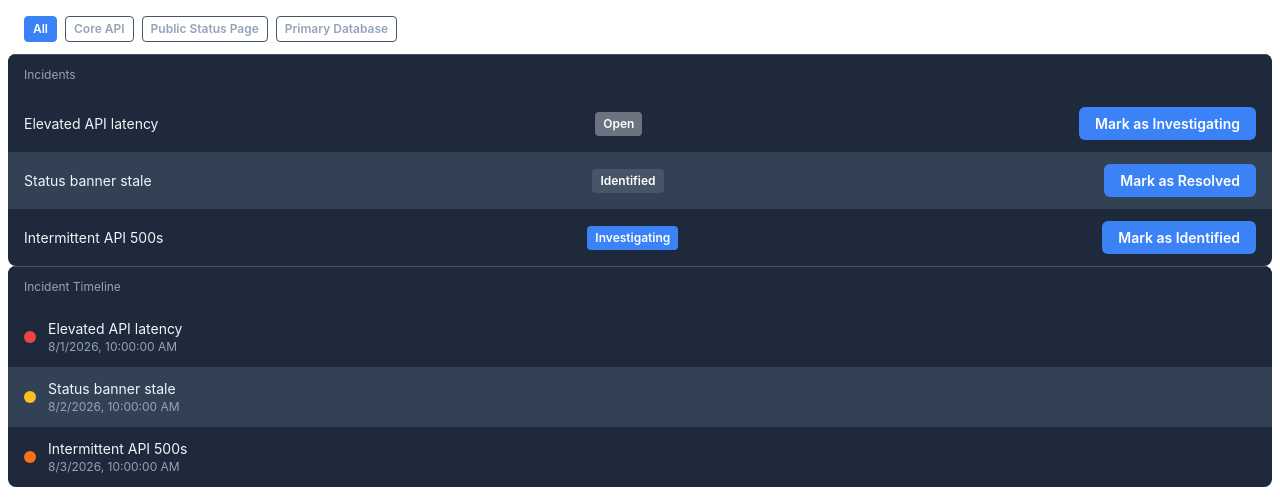
Test case: component filter shared state (IncidentList + Timeline) › filtering to a component with no incidents shows the empty state in the list and no timeline entries
Click the button with test id "component-filter-option-comp-db" at coordinates (336, 29), box [276, 16, 397, 42]
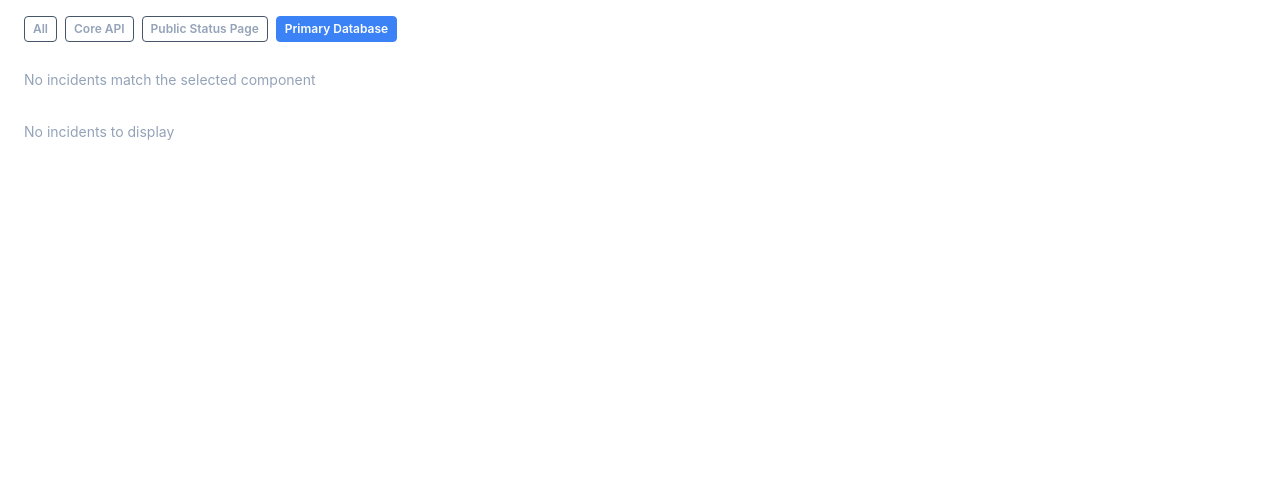
Result: the text "No incidents match the selected component" is shown at [24, 71, 316, 88]
Result: no elements with test id "incident-list-item" are shown
Result: the text "No incidents to display" is shown at [24, 123, 174, 140]
